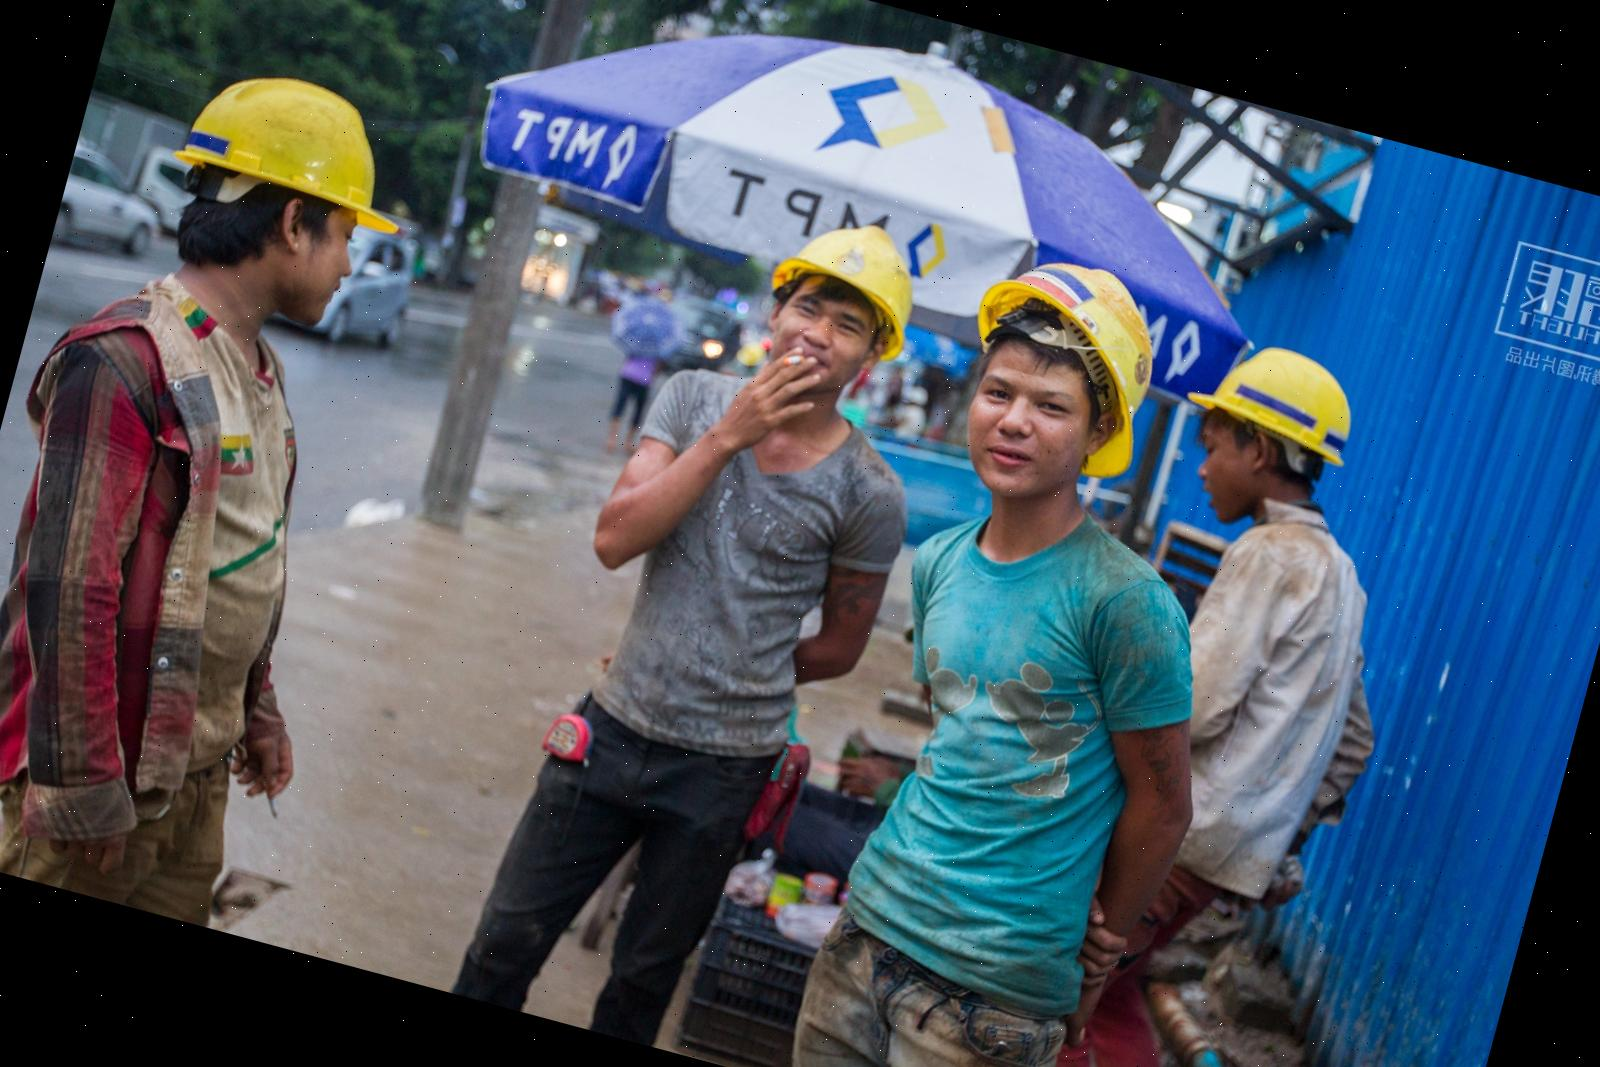helmet: (944, 232, 1188, 487), (161, 48, 435, 245), (1175, 326, 1370, 478), (758, 202, 937, 364)
no_wear: (0, 300, 335, 823), (835, 519, 1192, 996), (571, 367, 918, 790), (1142, 506, 1382, 881)
